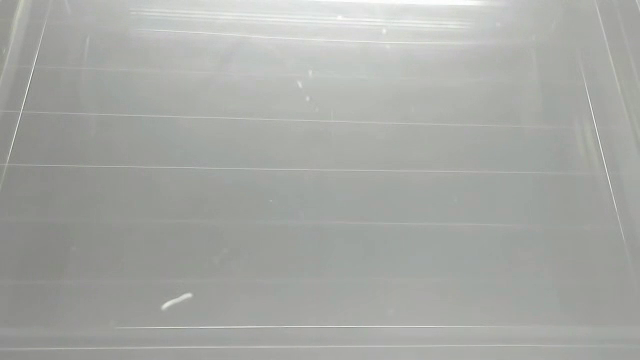alpha: (158, 289, 195, 314)
